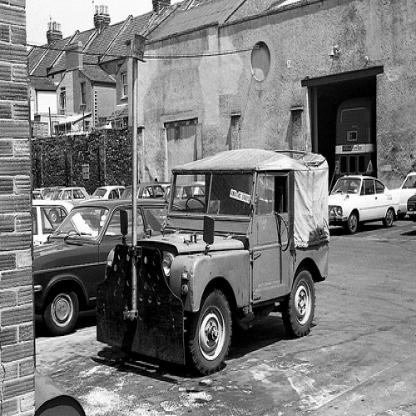car: (96, 147, 330, 375), (32, 198, 168, 334), (328, 175, 399, 235), (31, 196, 117, 244), (43, 185, 92, 225), (387, 170, 415, 219), (164, 178, 205, 211), (76, 185, 126, 205), (120, 182, 168, 200)
